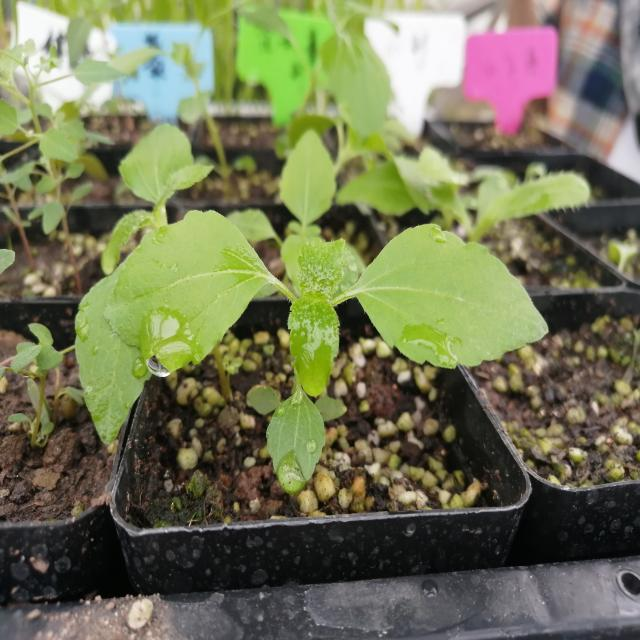billygoat_weed: (133, 181, 522, 446)
